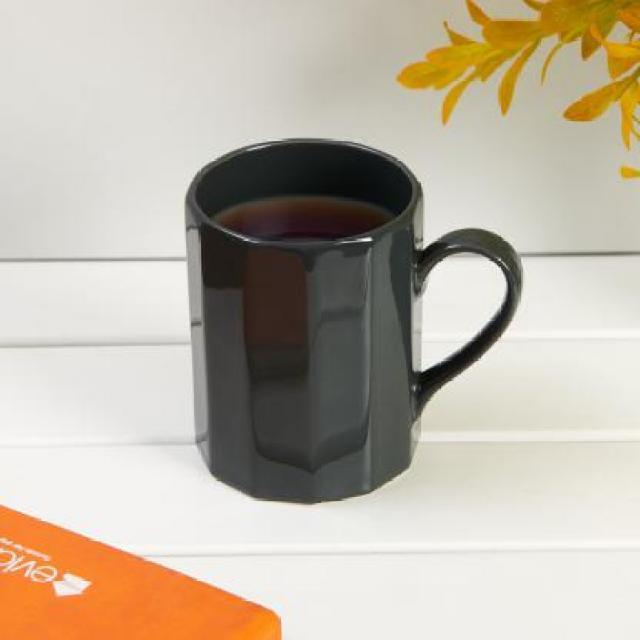taza: (177, 137, 525, 503)
